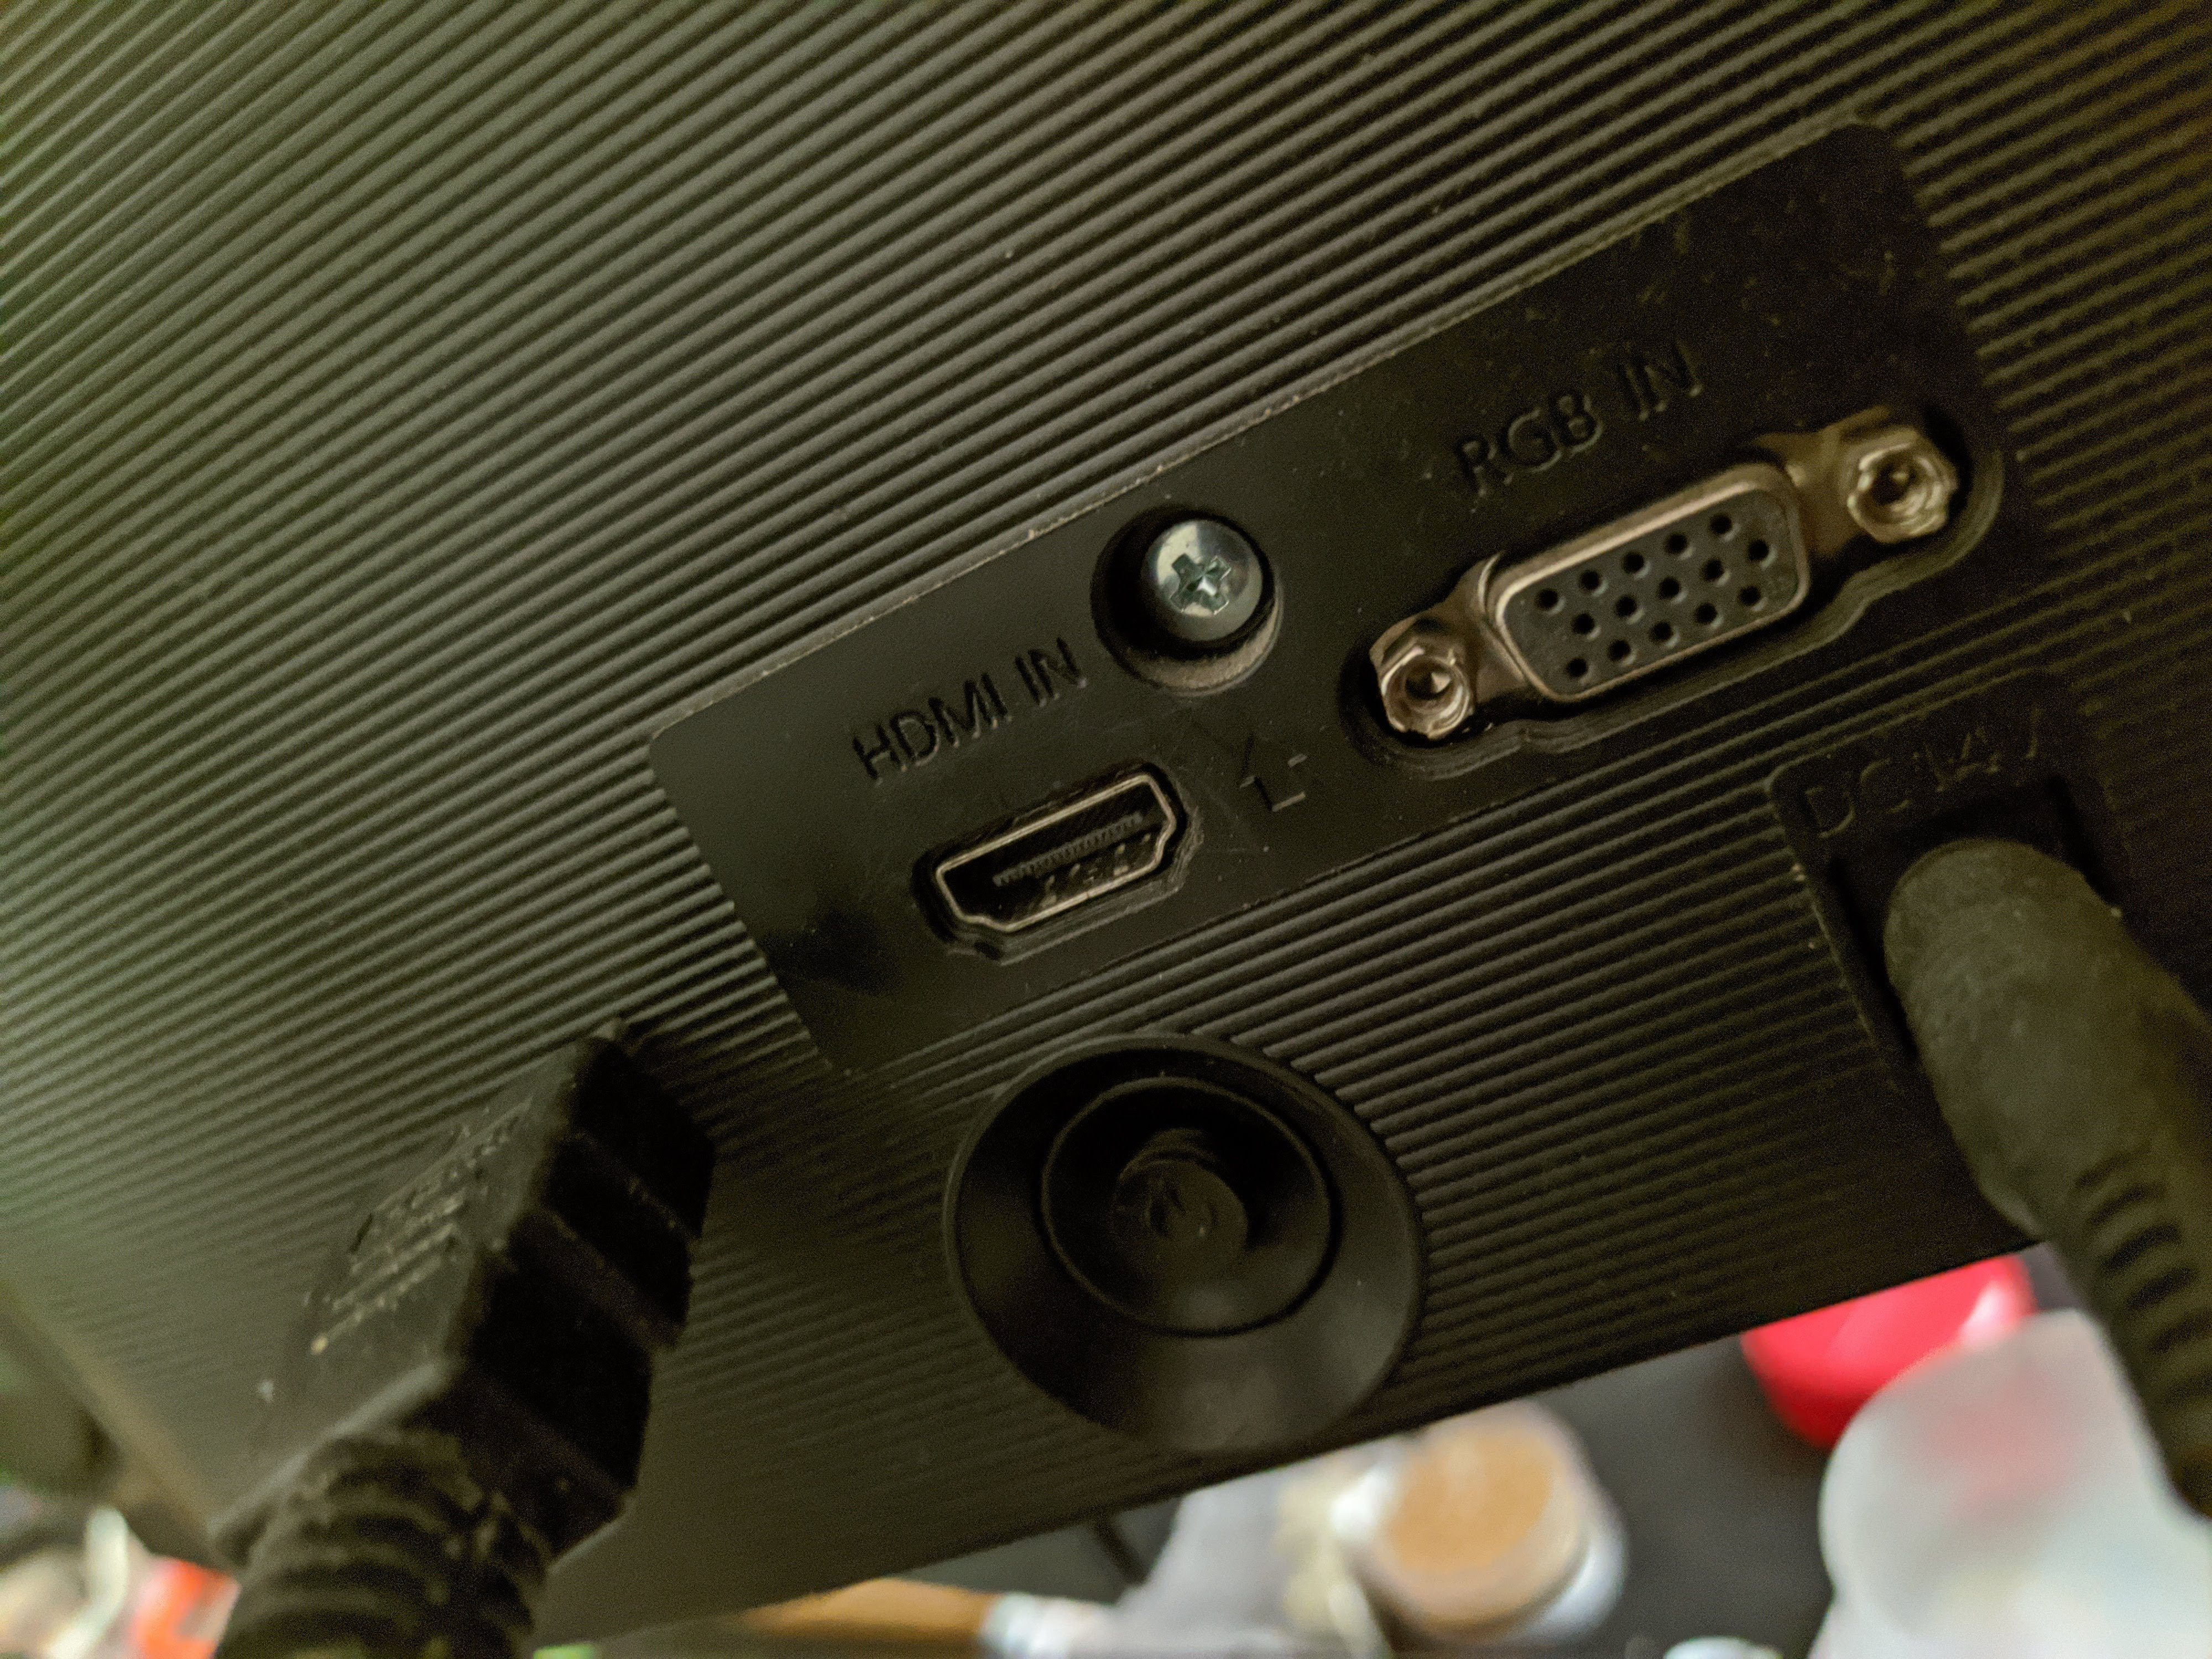VGA_in: (1371, 410, 1975, 753)
hdmi_in: (930, 770, 1181, 939)
